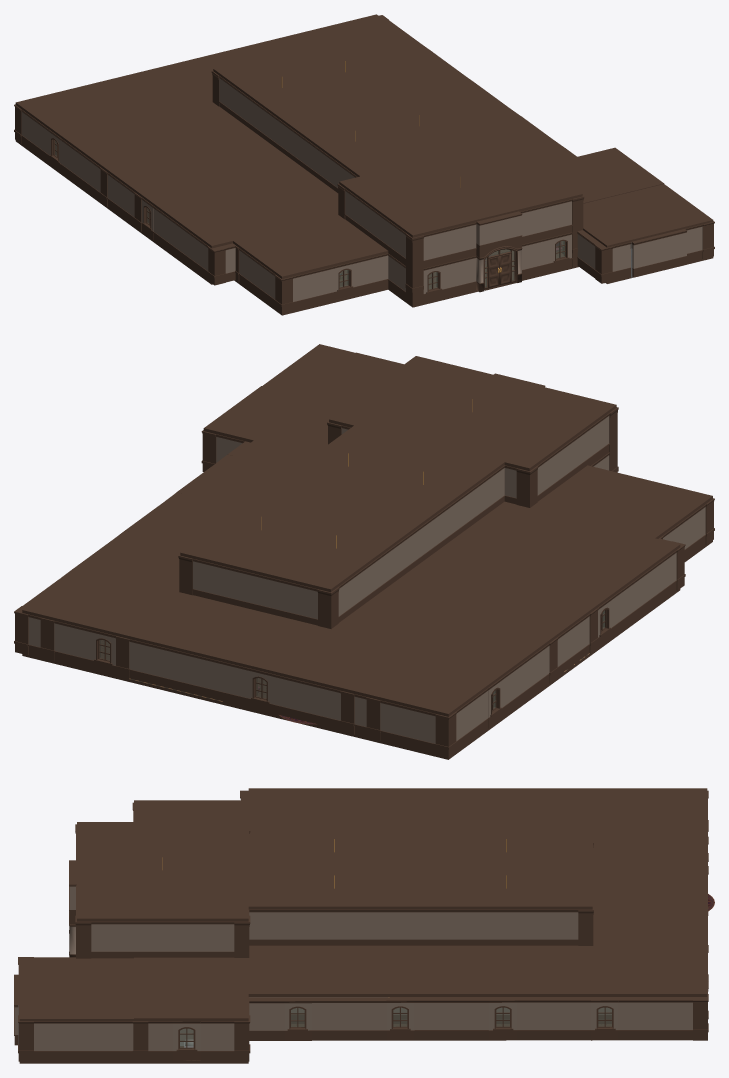
File: Mansion.glb
3 renders of one model, top to bottom at view 1: azimuth 30°, elevation 25°; view 2: azimuth 150°, elevation 25°; view 3: azimuth 270°, elevation 25°, orthographic. The views are drawn at different scales.
Visible parts, largest first — view 1: S_Ceiling.004, S_Ceiling.011, S_Ceiling, S_Ceiling.007, S_Ceiling.038, S_Ceiling.009, S_Ceiling.036, S_Ceiling.005, S_Ceiling.035, S_Ceiling.037, S_WallEmpty.027, S_Ceiling.019 (+50 smaller); view 2: S_Ceiling.004, S_Ceiling.011, S_Ceiling.007, S_Ceiling, S_Ceiling.036, S_Ceiling.005, S_Ceiling.009, S_Ceiling.037, S_Ceiling.035, S_WallEmpty.027, S_Ceiling.022, S_Ceiling.006 (+40 smaller); view 3: S_Ceiling.004, S_WallEmpty.031, S_Ceiling.011, S_Ceiling.006, S_Ceiling.038, S_Ceiling.035, S_Ceiling.037, S_Ceiling.005, S_Ceiling.036, S_Ceiling.009, S_Ceiling.022, S_WallEmpty.009 (+46 smaller).
Boxes of the visible parts, x1=… form: S_Ceiling.004: x1=339, y1=140, x2=582, y2=237; S_Ceiling.011: x1=15, y1=87, x2=164, y2=167; S_Ceiling: x1=233, y1=215, x2=388, y2=278; S_Ceiling.007: x1=211, y1=147, x2=338, y2=224; S_Ceiling.038: x1=583, y1=184, x2=713, y2=247; S_Ceiling.009: x1=138, y1=176, x2=274, y2=248; S_Ceiling.036: x1=213, y1=53, x2=349, y2=124; S_Ceiling.005: x1=287, y1=107, x2=423, y2=176; S_Ceiling.035: x1=351, y1=91, x2=487, y2=160; S_Ceiling.037: x1=277, y1=37, x2=413, y2=106; S_WallEmpty.027: x1=219, y1=75, x2=357, y2=192; S_Ceiling.019: x1=150, y1=102, x2=273, y2=162; S_Ceiling.004: x1=329, y1=356, x2=616, y2=471; S_Ceiling.011: x1=373, y1=621, x2=549, y2=716; S_Ceiling.007: x1=403, y1=501, x2=579, y2=593; S_Ceiling: x1=530, y1=465, x2=712, y2=538; S_Ceiling.036: x1=255, y1=507, x2=417, y2=592; S_Ceiling.005: x1=343, y1=444, x2=504, y2=528; S_Ceiling.009: x1=518, y1=526, x2=680, y2=610; S_Ceiling.037: x1=180, y1=489, x2=342, y2=573; S_Ceiling.035: x1=267, y1=425, x2=428, y2=507; S_WallEmpty.027: x1=338, y1=465, x2=504, y2=622; S_Ceiling.022: x1=122, y1=592, x2=280, y2=661; S_Ceiling.006: x1=203, y1=386, x2=346, y2=454; S_Ceiling.004: x1=77, y1=822, x2=248, y2=921; S_WallEmpty.031: x1=249, y1=909, x2=578, y2=945; S_Ceiling.011: x1=506, y1=788, x2=707, y2=824; S_Ceiling.006: x1=134, y1=957, x2=248, y2=1021; S_Ceiling.038: x1=19, y1=958, x2=133, y2=1021; S_Ceiling.035: x1=248, y1=870, x2=420, y2=909; S_Ceiling.037: x1=420, y1=870, x2=592, y2=909; S_Ceiling.005: x1=248, y1=834, x2=420, y2=870; S_Ceiling.036: x1=420, y1=834, x2=592, y2=870; S_Ceiling.009: x1=248, y1=788, x2=420, y2=824; S_Ceiling.022: x1=593, y1=897, x2=707, y2=945; S_WallEmpty.009: x1=91, y1=921, x2=234, y2=958.
Bounding box in the file's own units: 38.2 × 7.65 × 48.93.
Materials: 99 (26 with a texture image).
